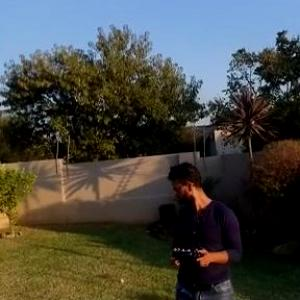follow: (164, 156, 247, 299)
